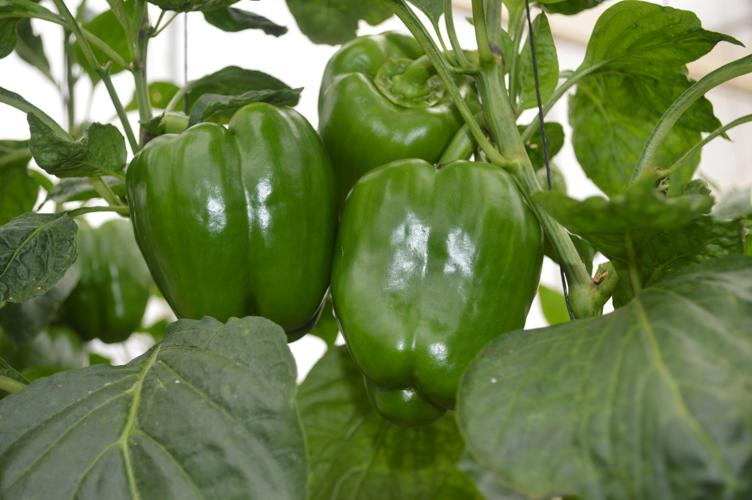BellPepper: (335, 160, 542, 424), (129, 102, 323, 329), (312, 34, 477, 162), (66, 219, 141, 342)
